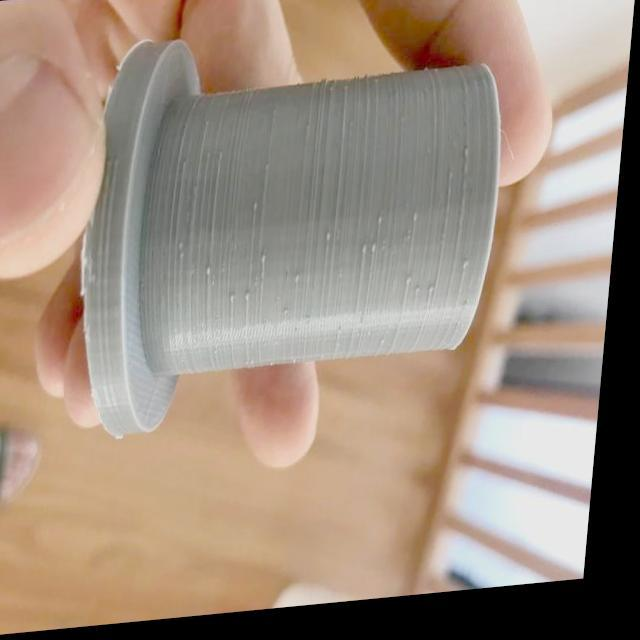zits: (466, 262, 479, 282), (232, 295, 245, 313), (410, 277, 422, 296), (287, 306, 297, 326), (432, 288, 444, 304), (262, 260, 274, 276), (416, 292, 429, 306), (207, 268, 220, 282), (464, 154, 474, 172), (374, 245, 384, 263), (380, 217, 390, 234), (247, 295, 258, 310), (328, 236, 339, 250), (297, 278, 308, 292), (181, 243, 190, 260), (414, 218, 426, 230), (364, 248, 372, 264)
